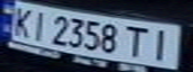2: (45, 12, 72, 47)
3: (66, 16, 87, 50)
5: (81, 18, 103, 52)
8: (100, 20, 124, 55)
I: (145, 26, 181, 61), (27, 9, 51, 42)
K: (6, 4, 39, 38)
T: (121, 24, 154, 60)
